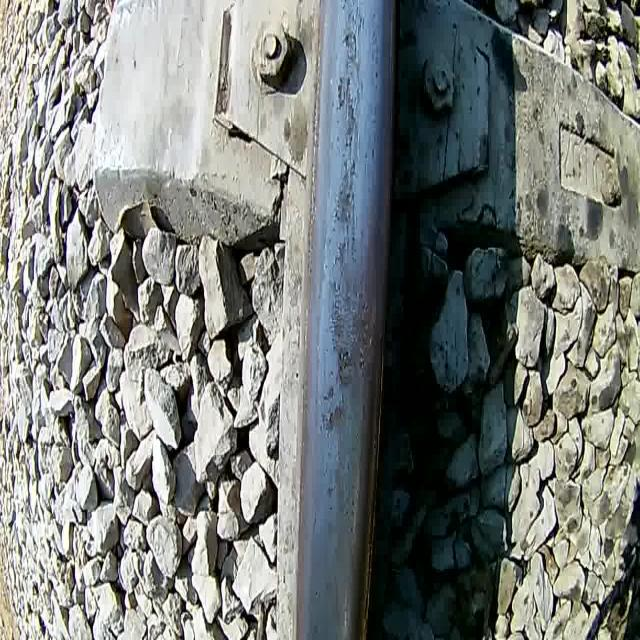Squats: (324, 260, 378, 387), (317, 379, 352, 444), (332, 165, 357, 228)
